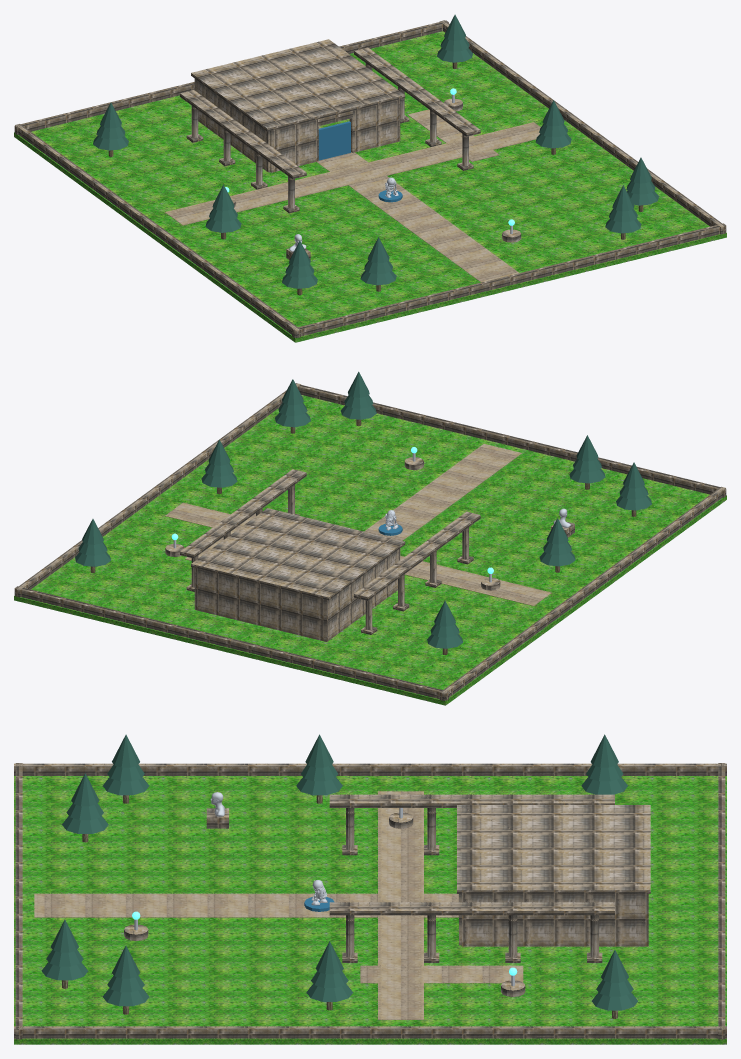
Rendered from world.glb.
The picture shows the model from 3 angles, top to bottom: view 1: azimuth 30°, elevation 25°; view 2: azimuth 150°, elevation 25°; view 3: azimuth 270°, elevation 25°; orthographic projection. The views are drawn at different scales.
Visible parts, largest first — view 1: courtyard, hall_roof, path_cross, path_main, boundary_z_34.5, boundary_x_-30.5, boundary_x_30.5, boundary_z_-34.5, hall_front_5.8, colonnade.001, colonnade, hall_front_-5.8 (+3 smaller); view 2: courtyard, hall_roof, hall_back, boundary_z_-34.5, path_main, boundary_z_34.5, boundary_x_-30.5, boundary_x_30.5, path_cross, hall_side_-9.2, colonnade, colonnade.001; view 3: courtyard, hall_roof, boundary_x_30.5, path_cross, path_main, boundary_x_-30.5, hall_side_9.2, colonnade.001, colonnade, path_east, boundary_z_34.5, boundary_z_-34.5 (+16 smaller).
Boxes of the visible parts, bbox=[...] form: courtyard: bbox=[14, 31, 726, 342]; hall_roof: bbox=[191, 39, 405, 131]; path_cross: bbox=[165, 122, 540, 225]; path_main: bbox=[316, 126, 519, 282]; boundary_z_34.5: bbox=[292, 223, 726, 337]; boundary_x_-30.5: bbox=[15, 124, 301, 337]; boundary_x_30.5: bbox=[439, 20, 725, 234]; boundary_z_-34.5: bbox=[14, 20, 448, 134]; hall_front_5.8: bbox=[349, 99, 399, 152]; colonnade.001: bbox=[354, 47, 480, 136]; colonnade: bbox=[180, 90, 306, 179]; hall_front_-5.8: bbox=[270, 119, 318, 172]; courtyard: bbox=[14, 395, 726, 705]; hall_roof: bbox=[191, 508, 405, 600]; hall_back: bbox=[194, 568, 329, 641]; boundary_z_-34.5: bbox=[14, 586, 448, 700]; path_main: bbox=[364, 444, 521, 540]; boundary_z_34.5: bbox=[298, 384, 726, 497]; boundary_x_-30.5: bbox=[439, 486, 725, 700]; boundary_x_30.5: bbox=[15, 383, 300, 597]; path_cross: bbox=[165, 502, 551, 605]; hall_side_-9.2: bbox=[329, 548, 400, 639]; colonnade: bbox=[354, 511, 480, 600]; colonnade.001: bbox=[180, 469, 306, 558]; courtyard: bbox=[14, 776, 726, 1044]; hall_roof: bbox=[457, 805, 650, 893]; boundary_x_30.5: bbox=[14, 1026, 726, 1038]; path_cross: bbox=[378, 791, 423, 1019]; path_main: bbox=[34, 893, 458, 917]; boundary_x_-30.5: bbox=[14, 763, 726, 775]; hall_side_9.2: bbox=[462, 894, 644, 946]; colonnade.001: bbox=[329, 902, 614, 915]; colonnade: bbox=[329, 794, 614, 807]; path_east: bbox=[360, 965, 523, 983]; boundary_z_34.5: bbox=[15, 763, 22, 1039]; boundary_z_-34.5: bbox=[718, 763, 725, 1039].
Size of what is drawn, in the model's own units: 62 by 8 by 70.
Materials: 8 (4 with a texture image).
